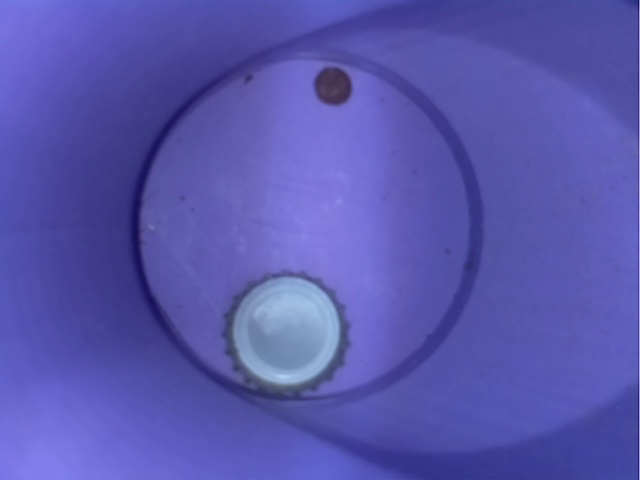capsule: (207, 264, 371, 406)
croquette: (304, 57, 359, 117)
